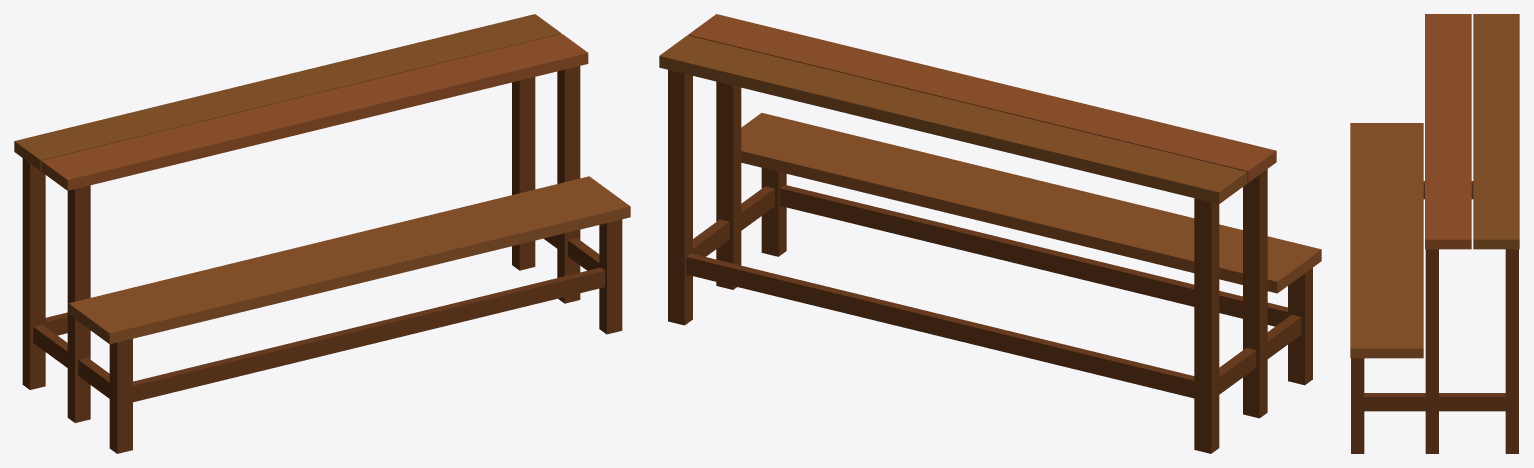
File: clothes_bench.glb
3 views of the same model, side by side, from view 1: azimuth 30°, elevation 25°; view 2: azimuth 150°, elevation 25°; view 3: azimuth 270°, elevation 25° (orthographic). The views are drawn at different scales.
Parts seen in each view (by area): view 1: pv3_clothes_bench; view 2: pv3_clothes_bench; view 3: pv3_clothes_bench.
Boxes of the visible parts, left/top/right/bottom form: pv3_clothes_bench: left=14, top=14, right=630, bottom=453; pv3_clothes_bench: left=659, top=14, right=1321, bottom=453; pv3_clothes_bench: left=1350, top=14, right=1519, bottom=453.
Bounding box in the file's own units: 2 × 0.9 × 0.634.
